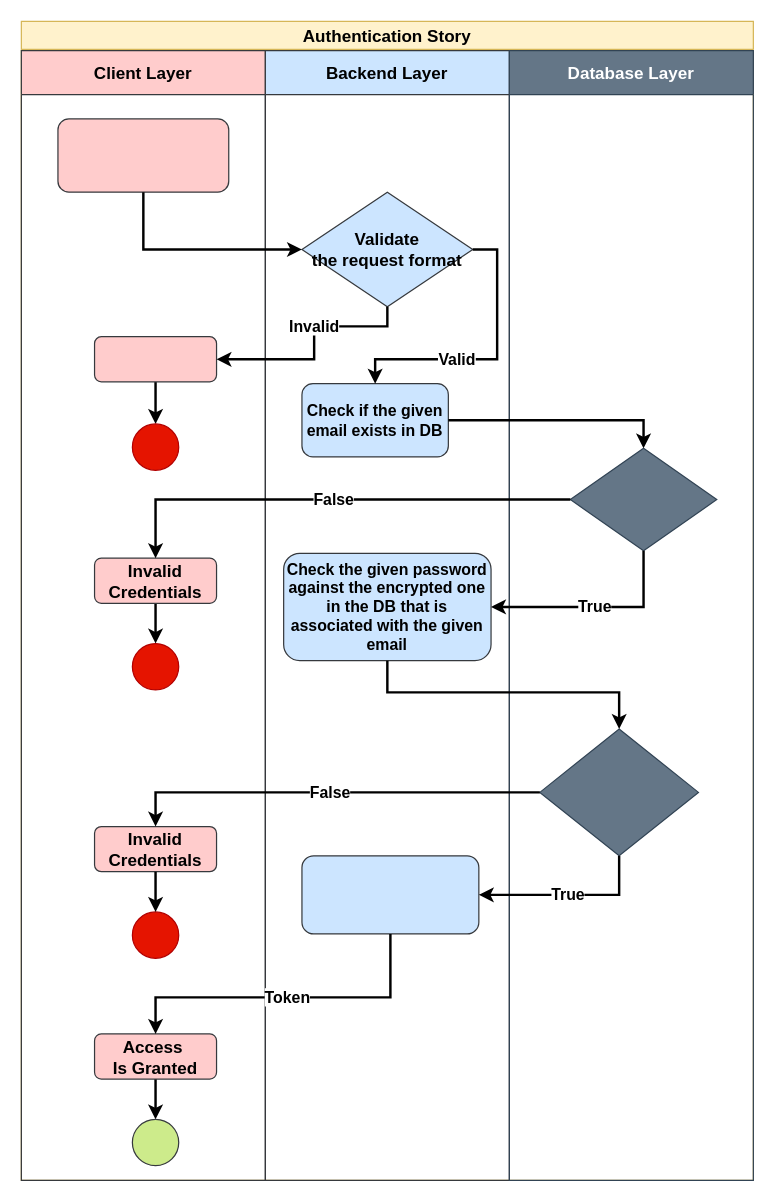
This 775x1202 diagram has some shape labels left out. Each missing label, with the centre of its shape:
"Bad Request" belongs at point (155, 359).
"Check the combination" belongs at point (618, 792).
"Create a jwt token based on this credentials" belongs at point (390, 894).
"Lookup the given email" belongs at point (643, 499).
"User enteres Email/Password" belongs at point (143, 155).
